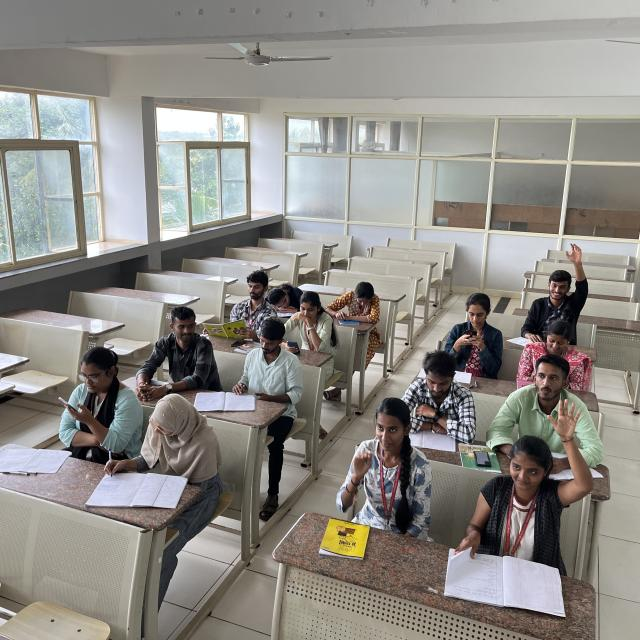Hand Rising: (484, 388, 592, 560), (528, 241, 591, 326)
Reading: (403, 351, 481, 449), (206, 270, 274, 339)
Sleeping: (268, 277, 312, 314)
Using Phone: (59, 339, 141, 442), (441, 292, 504, 364), (285, 290, 337, 353)
Writing: (104, 394, 218, 505), (226, 322, 303, 414)
